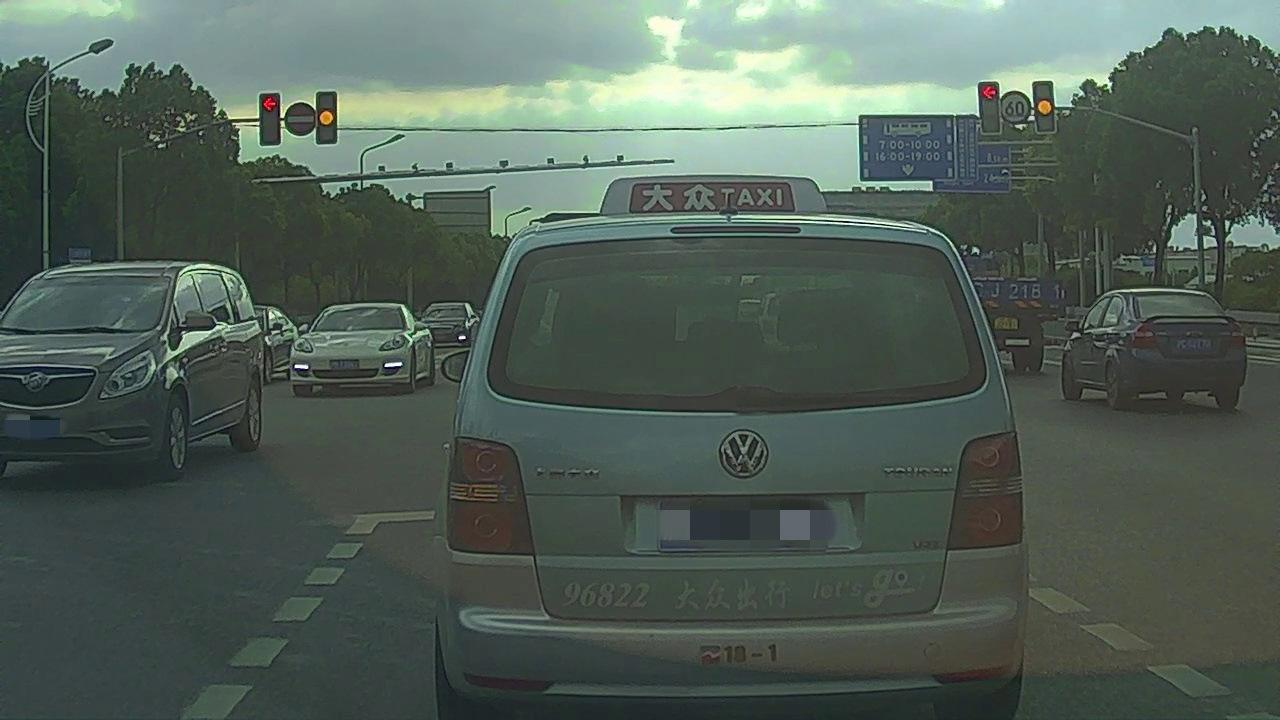traffic_light: (1033, 82, 1056, 132), (259, 91, 280, 145), (978, 83, 1000, 132), (317, 92, 336, 146)
